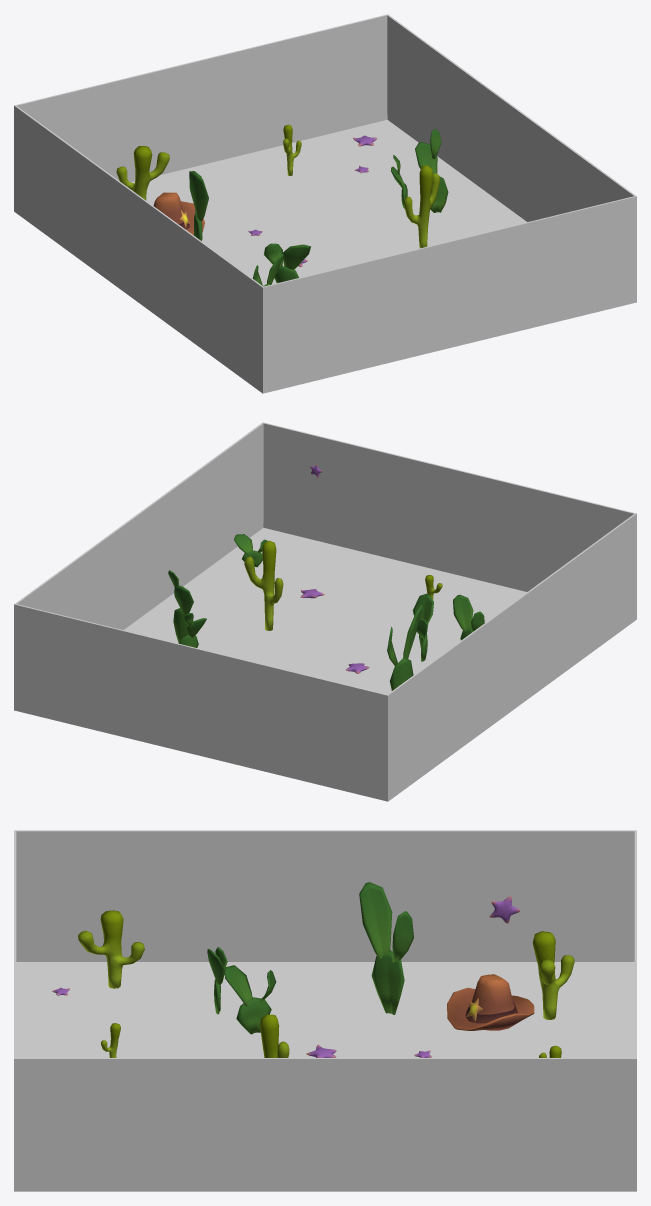
The model's file is AquariumWithProps.fbx.
3 renders of one model, top to bottom at view 1: azimuth 30°, elevation 25°; view 2: azimuth 150°, elevation 25°; view 3: azimuth 270°, elevation 25°, orthographic. The views are drawn at different scales.
Visible parts, largest first — view 1: Tank, Cactus.005, Cactus.002, Flatcactus1.001, Flatcactus2.001, CowboyHat.002, Flatcactus1.002; view 2: Tank, Cactus.005, Flatcactus1.002, Flatcactus2.001, Flatcactus1, Flatcactus1.001; view 3: Tank, Flatcactus1.002, CowboyHat.002, Cactus.001, Cactus.002, Flatcactus1.001, Cactus.005, Flatcactus1.
Boxes of the visible parts, x1,y1,x2,y2 form: Tank: [14, 14, 636, 393]; Cactus.005: [404, 165, 440, 248]; Cactus.002: [116, 146, 169, 200]; Flatcactus1.001: [263, 243, 311, 283]; Flatcactus2.001: [415, 129, 448, 212]; CowboyHat.002: [153, 192, 204, 235]; Flatcactus1.002: [189, 171, 208, 240]; Tank: [14, 422, 636, 801]; Cactus.005: [244, 540, 283, 630]; Flatcactus1.002: [387, 604, 421, 690]; Flatcactus2.001: [168, 570, 193, 643]; Flatcactus1: [453, 594, 484, 640]; Flatcactus1.001: [412, 593, 433, 661]; Tank: [14, 830, 636, 1191]; Flatcactus1.002: [359, 882, 413, 1014]; CowboyHat.002: [447, 974, 534, 1030]; Cactus.001: [78, 910, 144, 988]; Cactus.002: [532, 931, 574, 1019]; Flatcactus1.001: [224, 965, 276, 1034]; Cactus.005: [260, 1014, 289, 1057]; Flatcactus1: [207, 947, 227, 1014].
Bounding box in the file's own units: 701 × 190 × 808.
